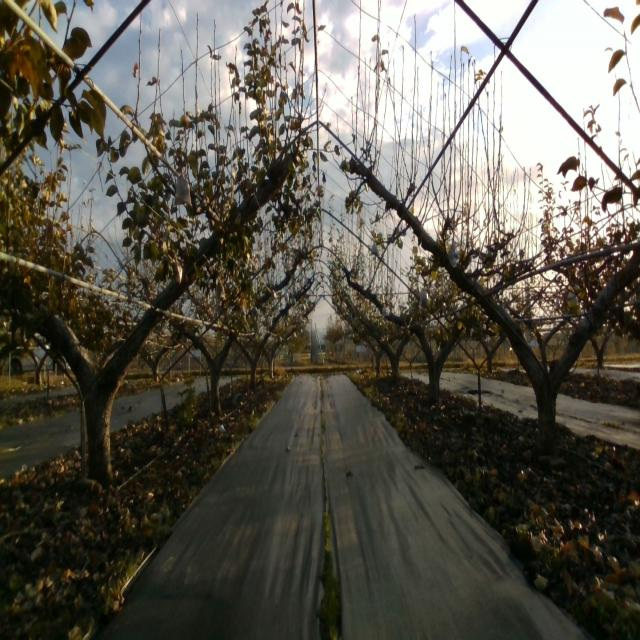pearbags: (174, 167, 193, 208), (448, 237, 459, 269)
